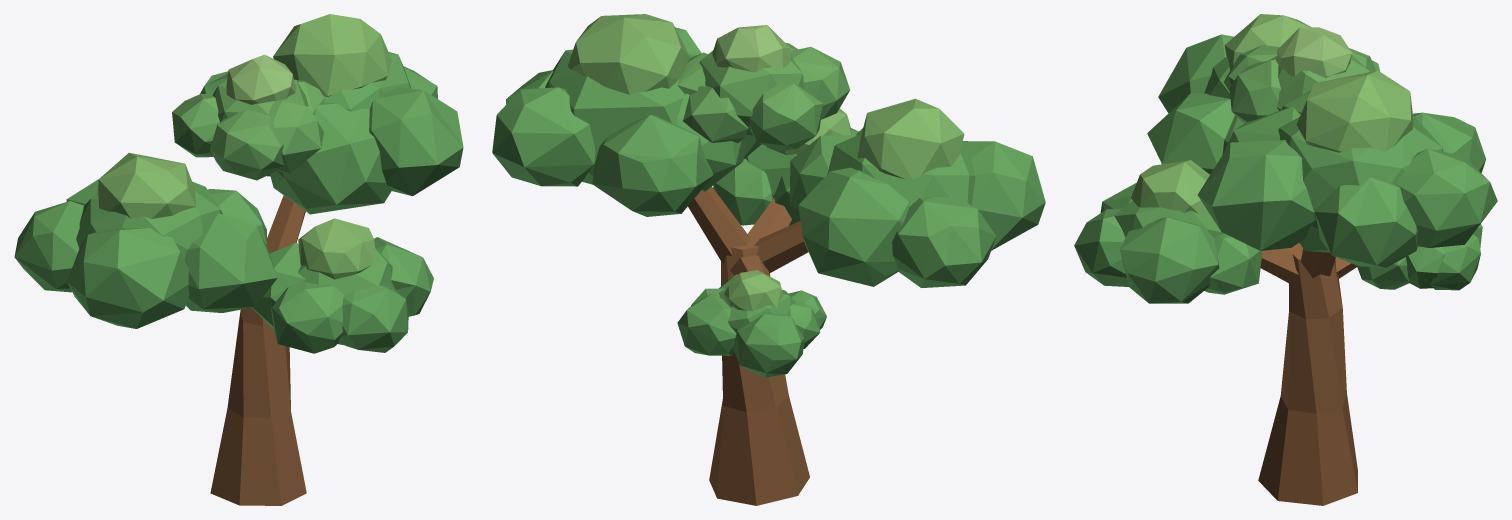
File: giant_broadleaf.fbx
The picture shows the model from 3 angles, left to right: view 1: azimuth 30°, elevation 25°; view 2: azimuth 150°, elevation 25°; view 3: azimuth 270°, elevation 25°; orthographic projection. The views are drawn at different scales.
Visible parts, largest first — view 1: giant_broadleaf; view 2: giant_broadleaf; view 3: giant_broadleaf.
Part boxes in pixels (x1,y1,x2,y2): giant_broadleaf: [14, 14, 463, 505]; giant_broadleaf: [492, 14, 1045, 505]; giant_broadleaf: [1074, 14, 1497, 505].
Bounding box in the file's own units: 80.61 × 78.35 × 65.2.
